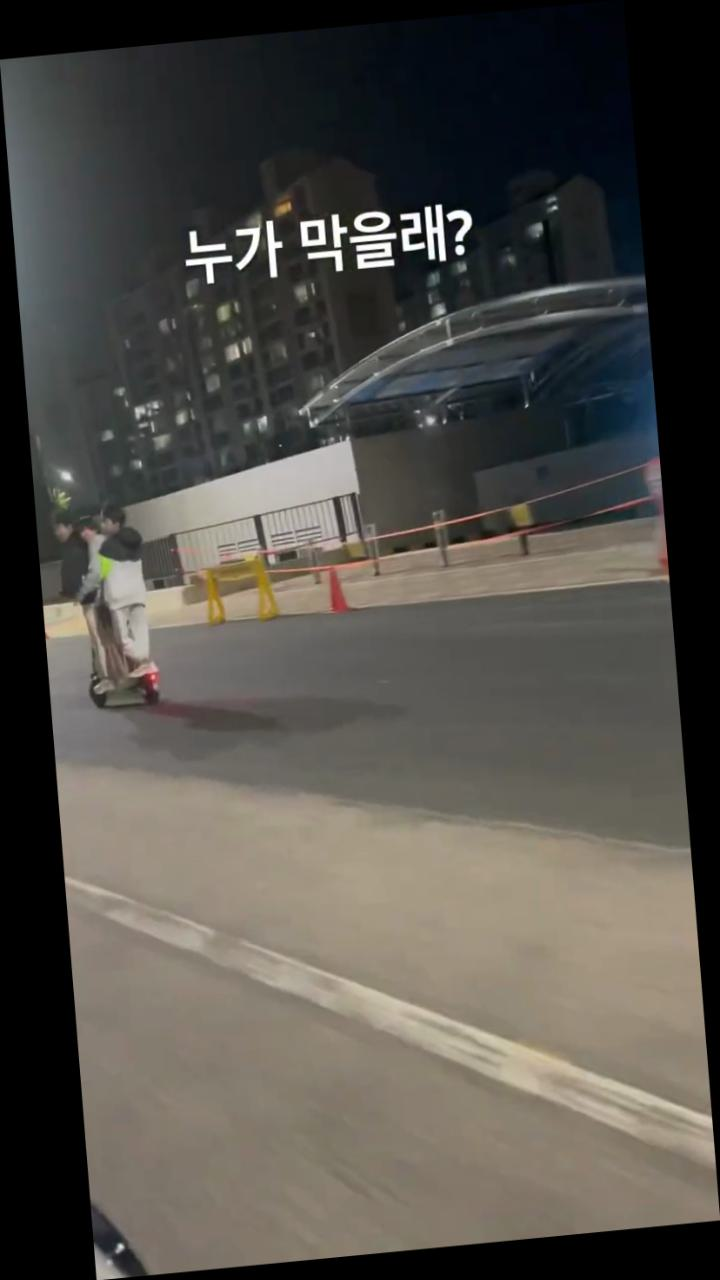multiple: (45, 497, 169, 718)
